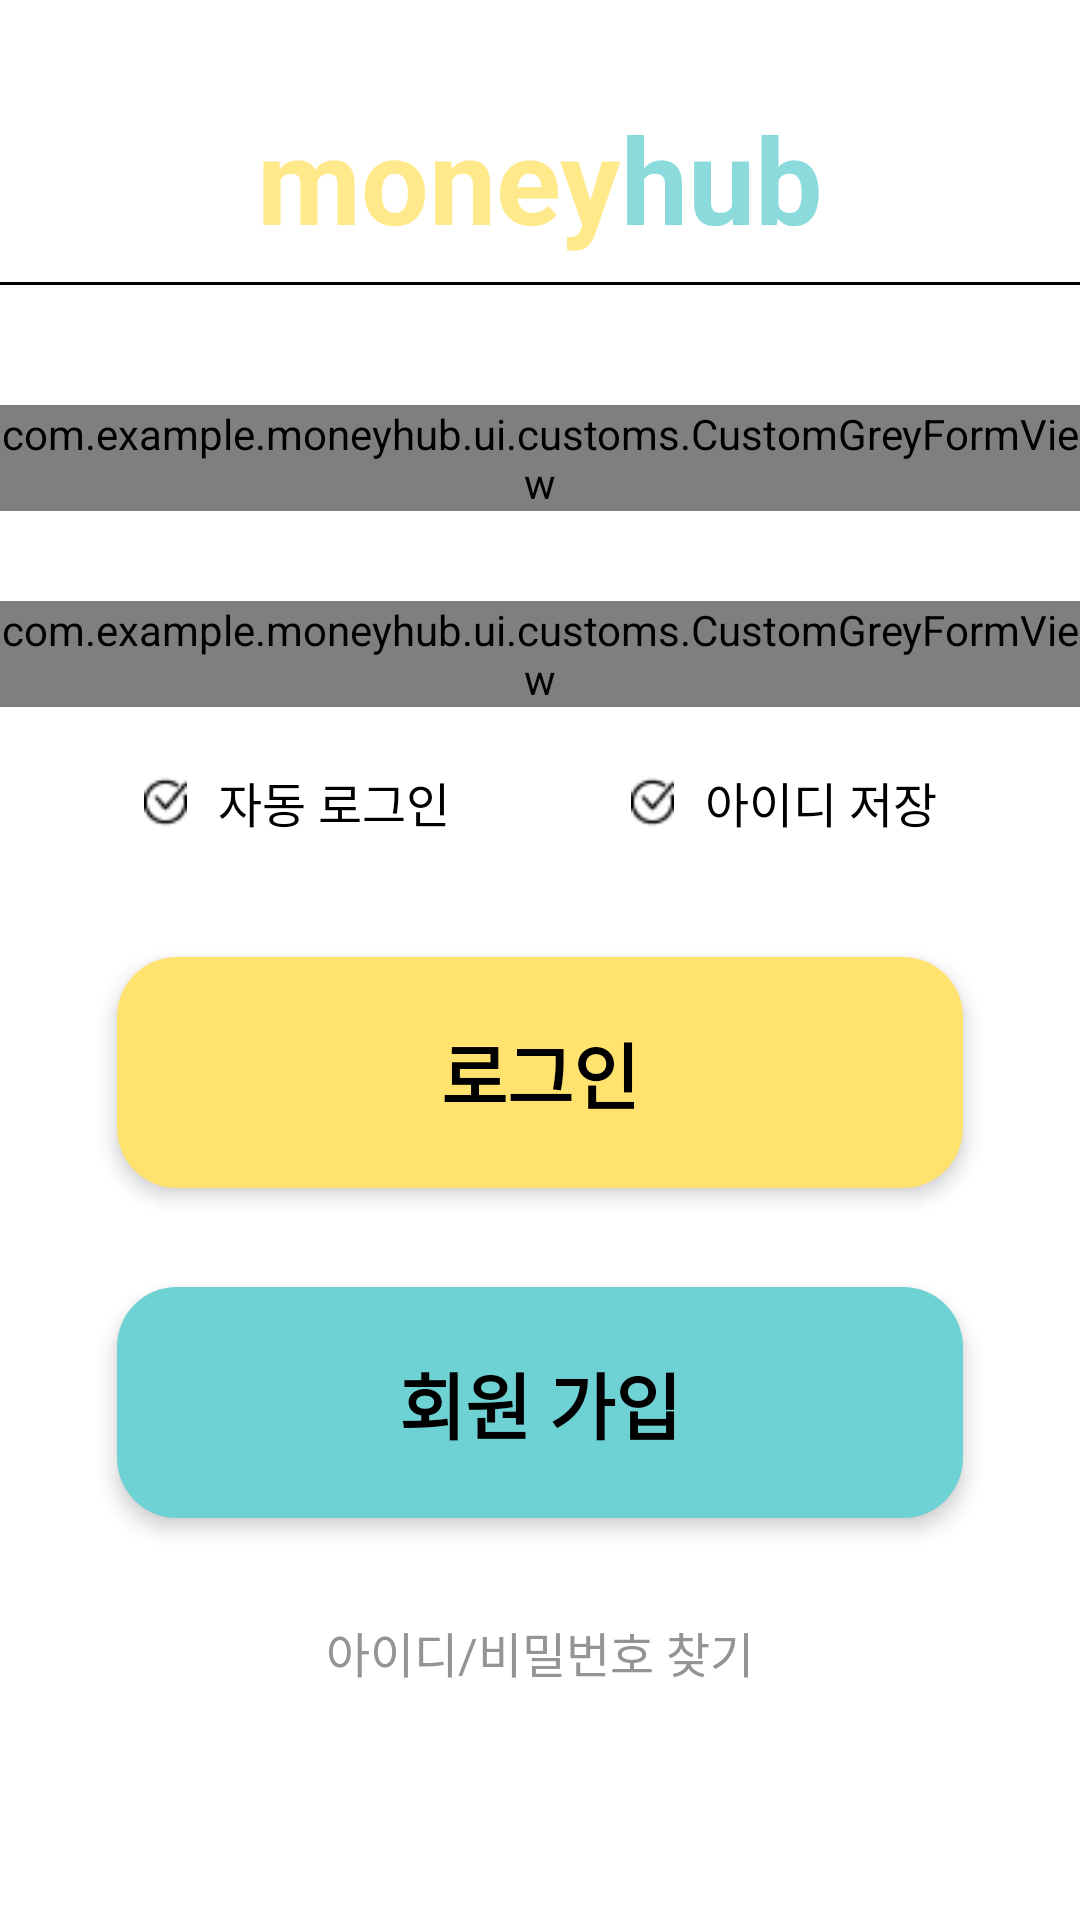

Icon bounding boxes for this 1080px×1920px phone screenshot, format detection(x1, y1, x2, y2):
check: detection(144, 779, 187, 825), detection(631, 779, 674, 825)
